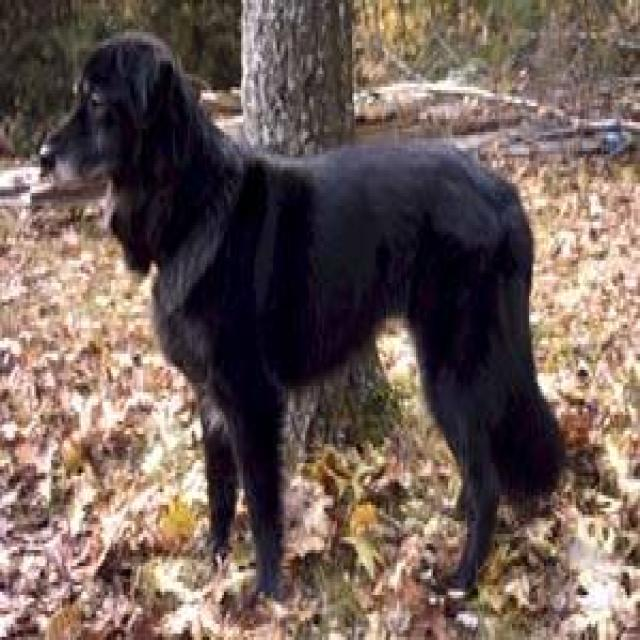Dog: (32, 20, 203, 232)
